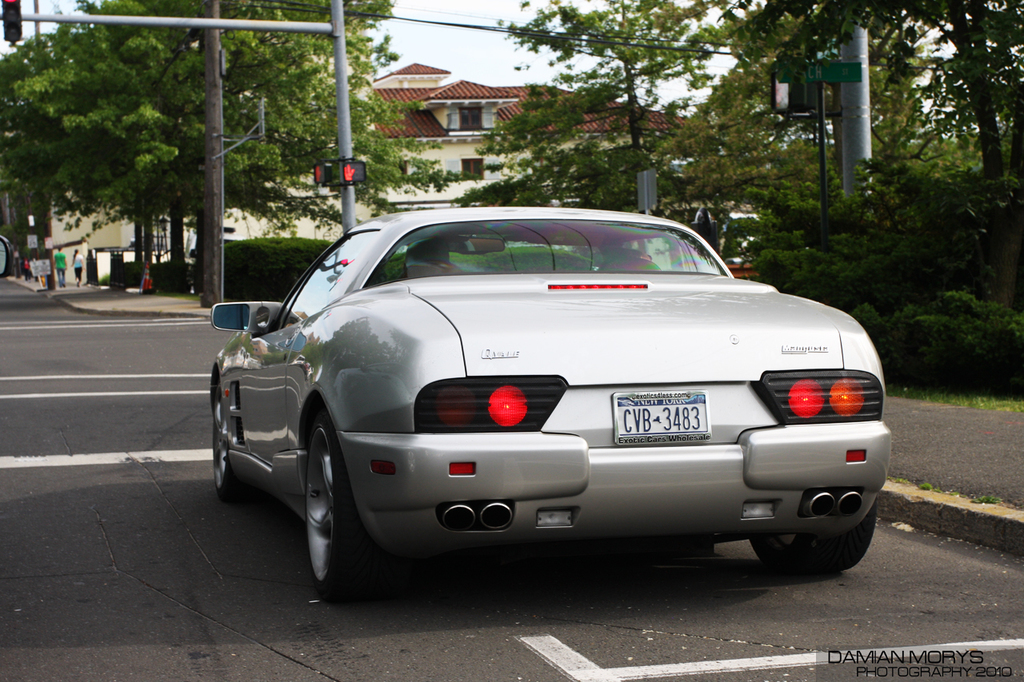person: (404, 236, 459, 278)
